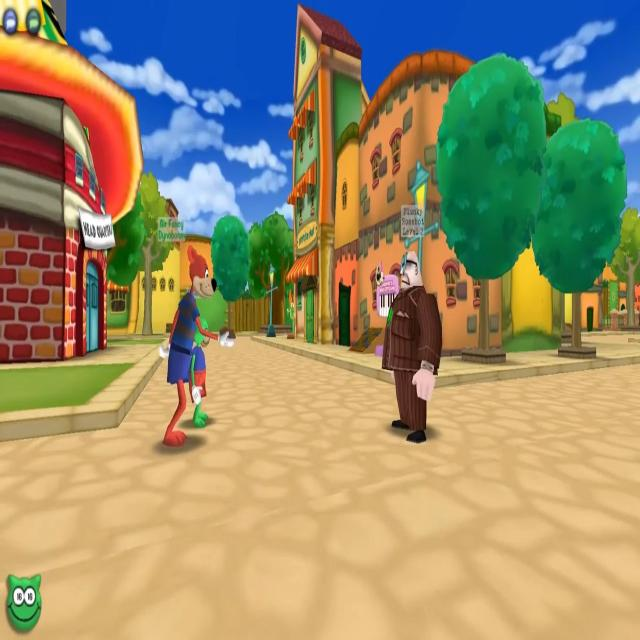flunky: (378, 198, 443, 446)
